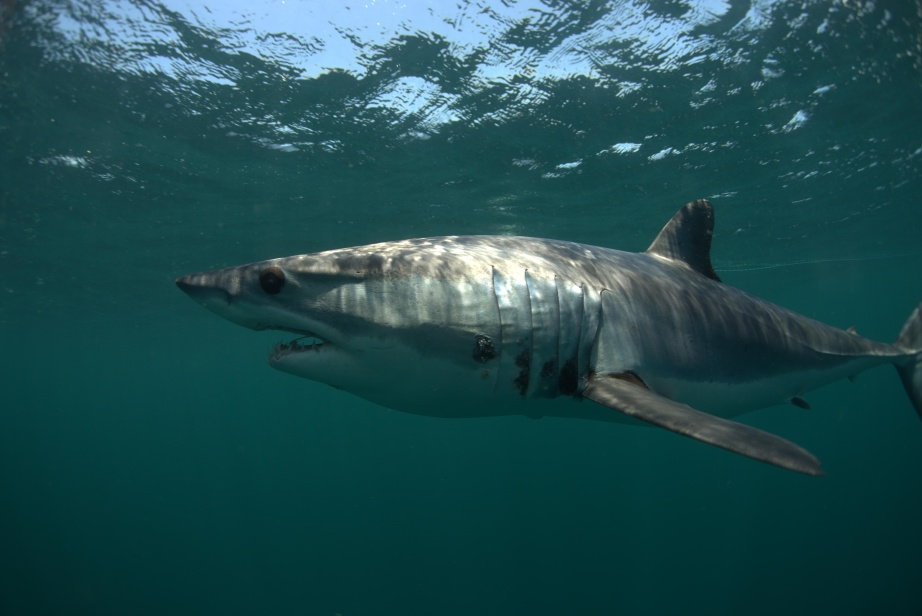Mako: (161, 191, 922, 486)
